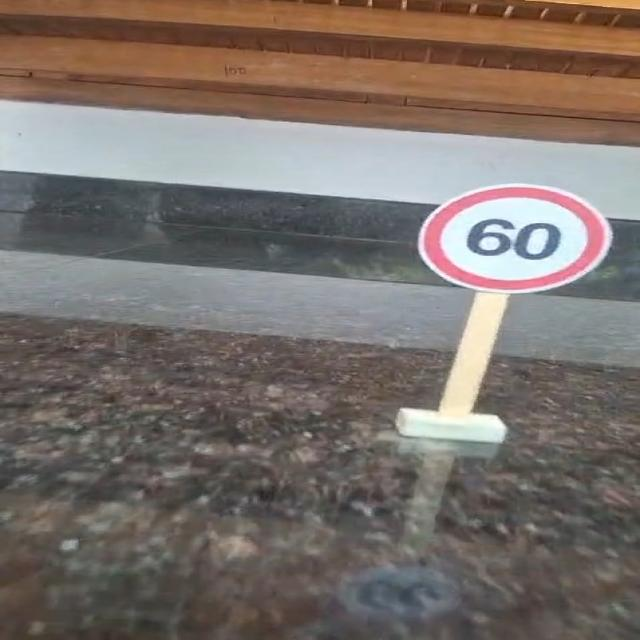Speed60: (413, 181, 614, 296)
